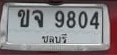txt02: (17, 9, 30, 28)
txt06: (30, 9, 44, 29)
